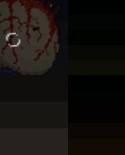breastplate: (0, 75, 68, 155)
eyeC: (0, 0, 68, 75)
sword: (68, 75, 125, 155), (68, 0, 125, 75)
